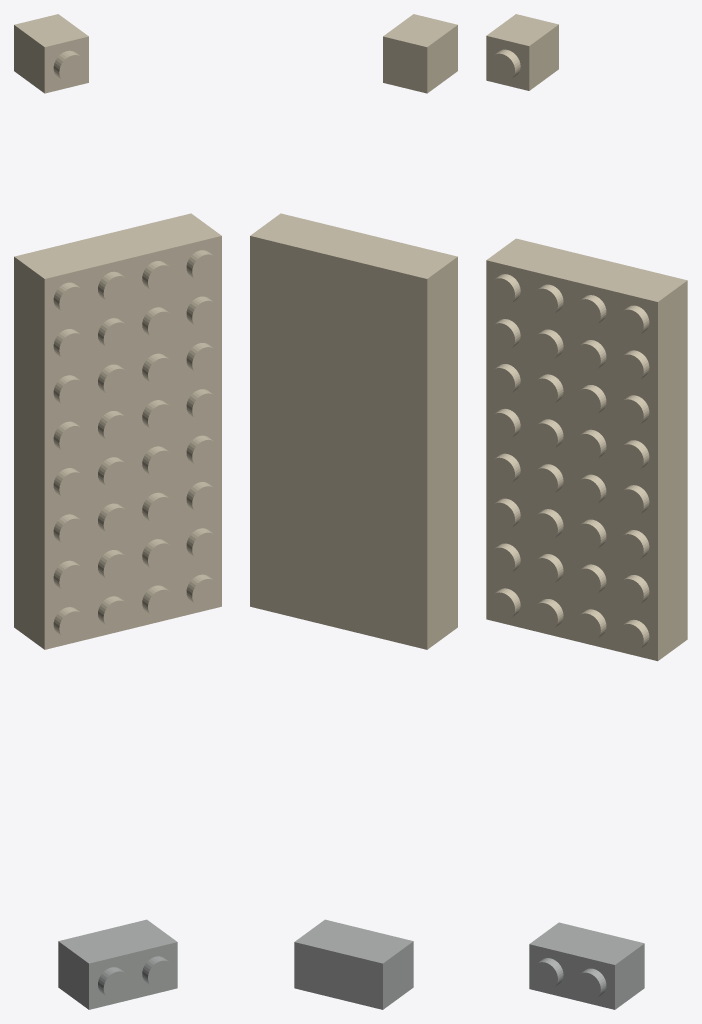
Rendered from current.glb.
3 renders of one model, left to right at view 1: azimuth 30°, elevation 25°; view 2: azimuth 150°, elevation 25°; view 3: azimuth 330°, elevation 25°, orthographic. The views are drawn at different scales.
Parts seen in each view (by area): view 1: world; view 2: world; view 3: world.
Part boxes in pixels (box(x1,y1,x2,y2)): world: box(14, 14, 221, 1009); world: box(250, 14, 457, 1009); world: box(486, 14, 687, 1009).
Size of the model in its own units: 32 by 168 by 11.4.
